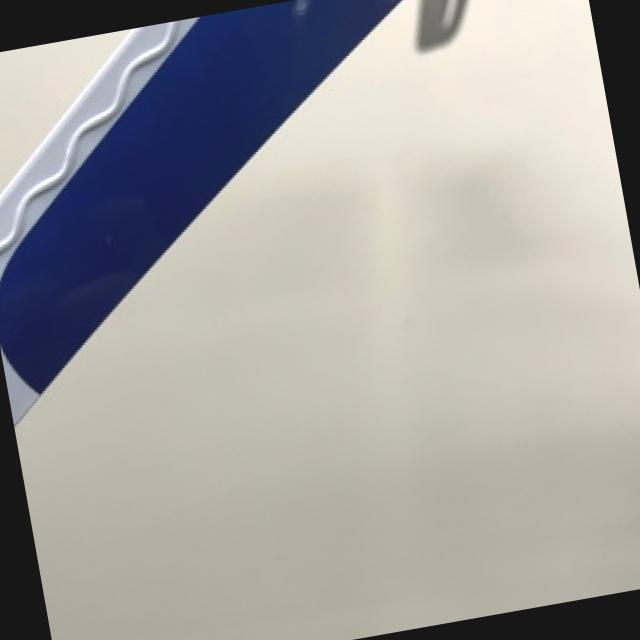healthy: (0, 0, 395, 418)
